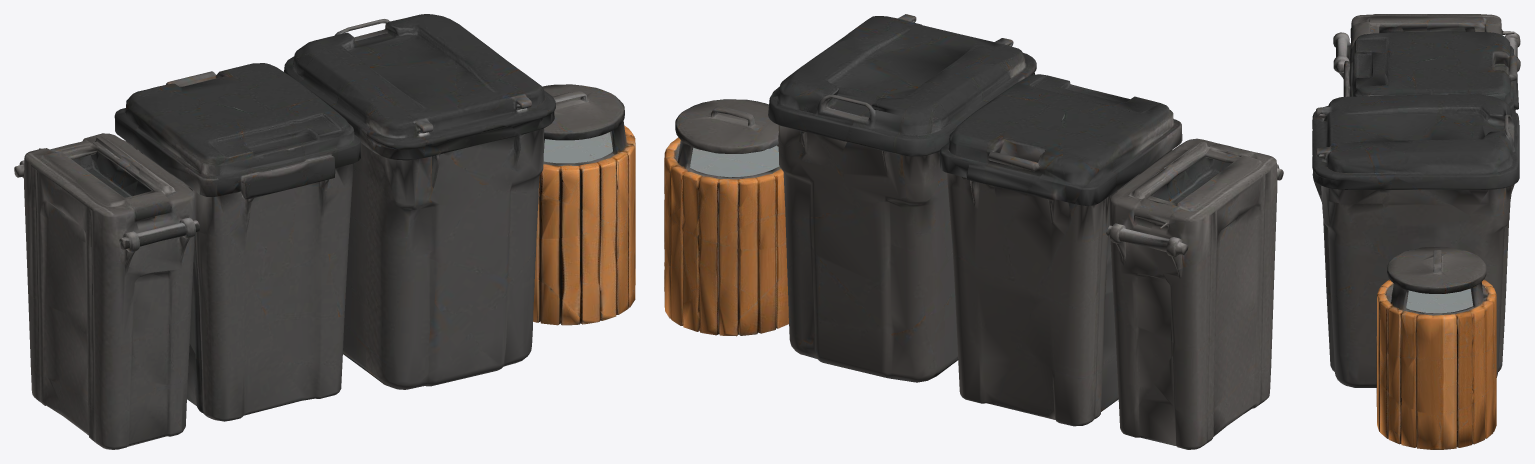
File: bins_lod1.glb
3 renders of one model, left to right at view 1: azimuth 30°, elevation 25°; view 2: azimuth 150°, elevation 25°; view 3: azimuth 270°, elevation 25°, orthographic. The views are drawn at different scales.
Parts seen in each view (by area): view 1: mesh_node; view 2: mesh_node; view 3: mesh_node.
Part boxes in pixels (<box>): mesh_node: <box>14,14,635,449</box>; mesh_node: <box>664,14,1283,449</box>; mesh_node: <box>1312,14,1520,449</box>.
Bounding box in the file's own units: 1.9 × 0.9017 × 0.713.
1 material, 1 textured.
